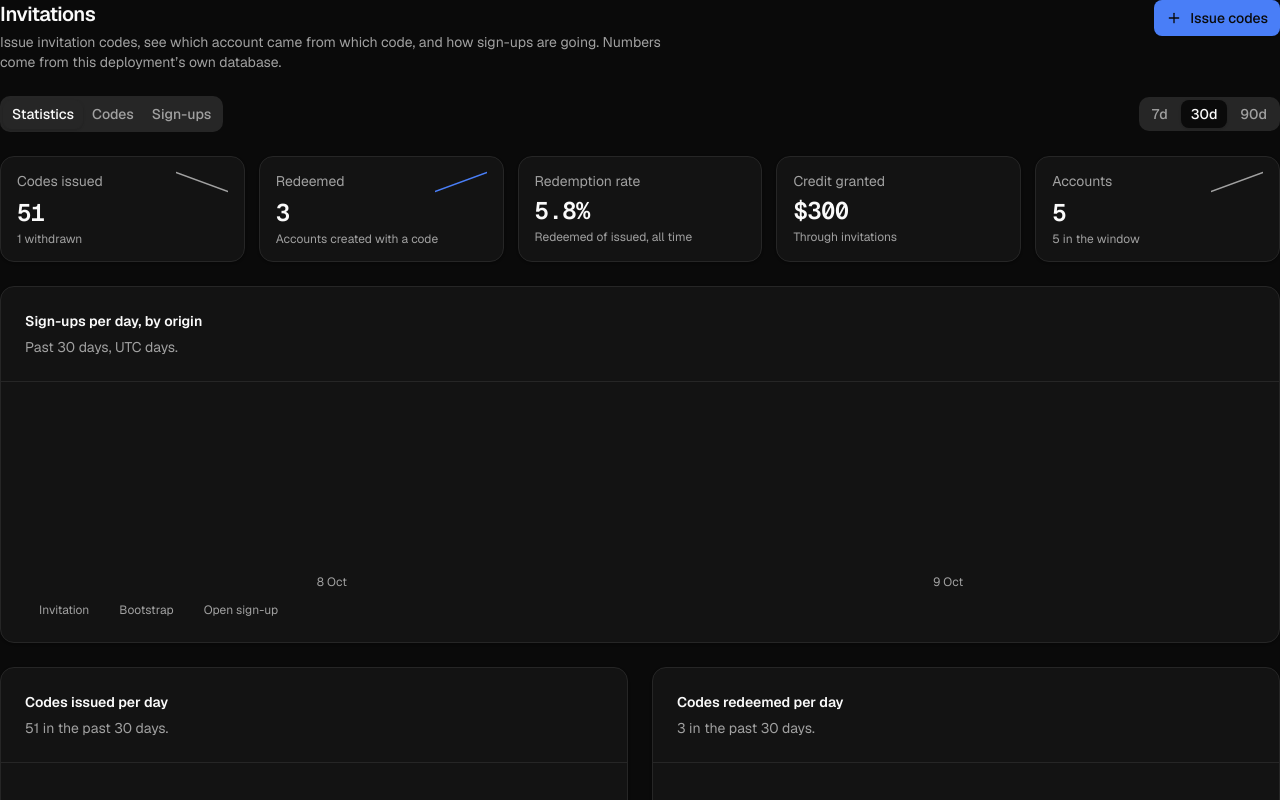
InvitationsScreen › says what is wrong with the form before asking the API
Click the button "Issue codes".
click(1217, 18)  # box [1154,0,1279,36]
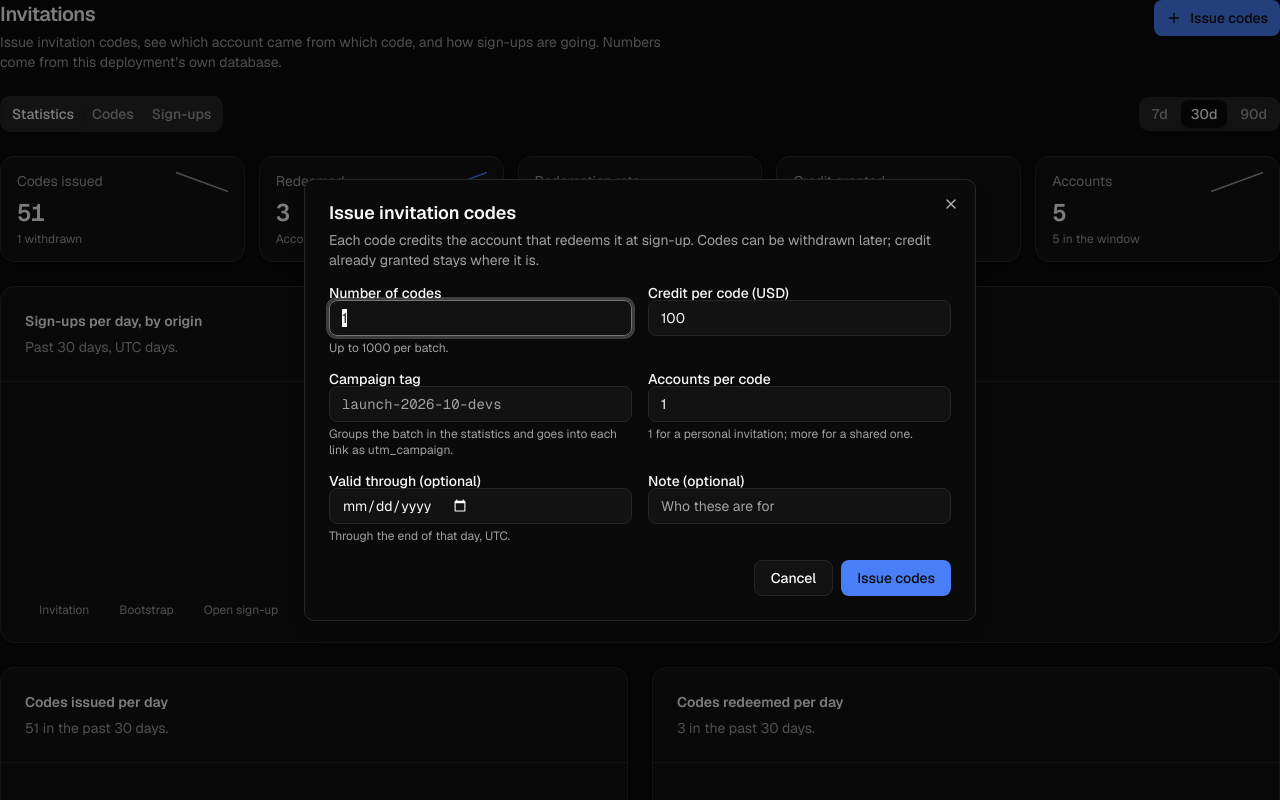
Replace the text in the field labelled "Number of codes" with "5000" at (480, 318), box [329,300,632,336]
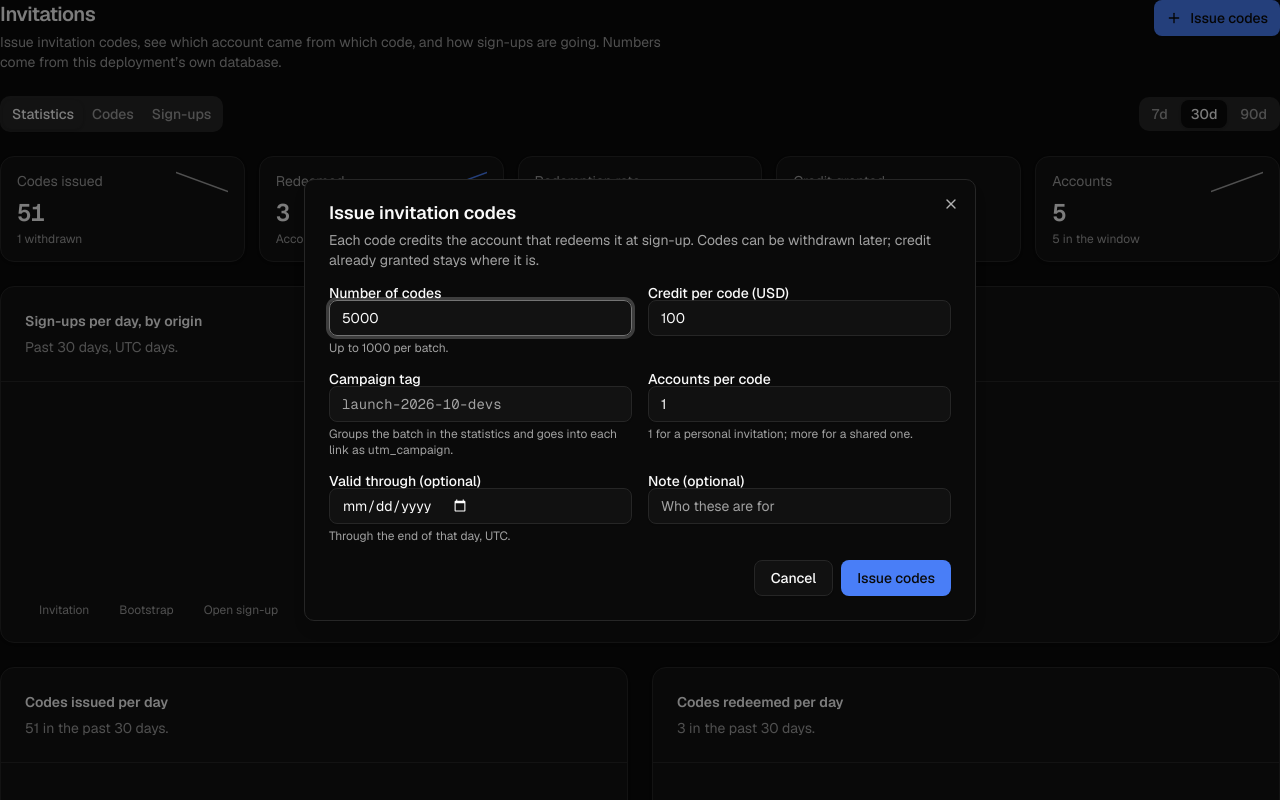
Type "Bad Tag" into the field labelled "Campaign tag".
click(480, 404); type("Bad Tag")  # box [329,386,632,422]
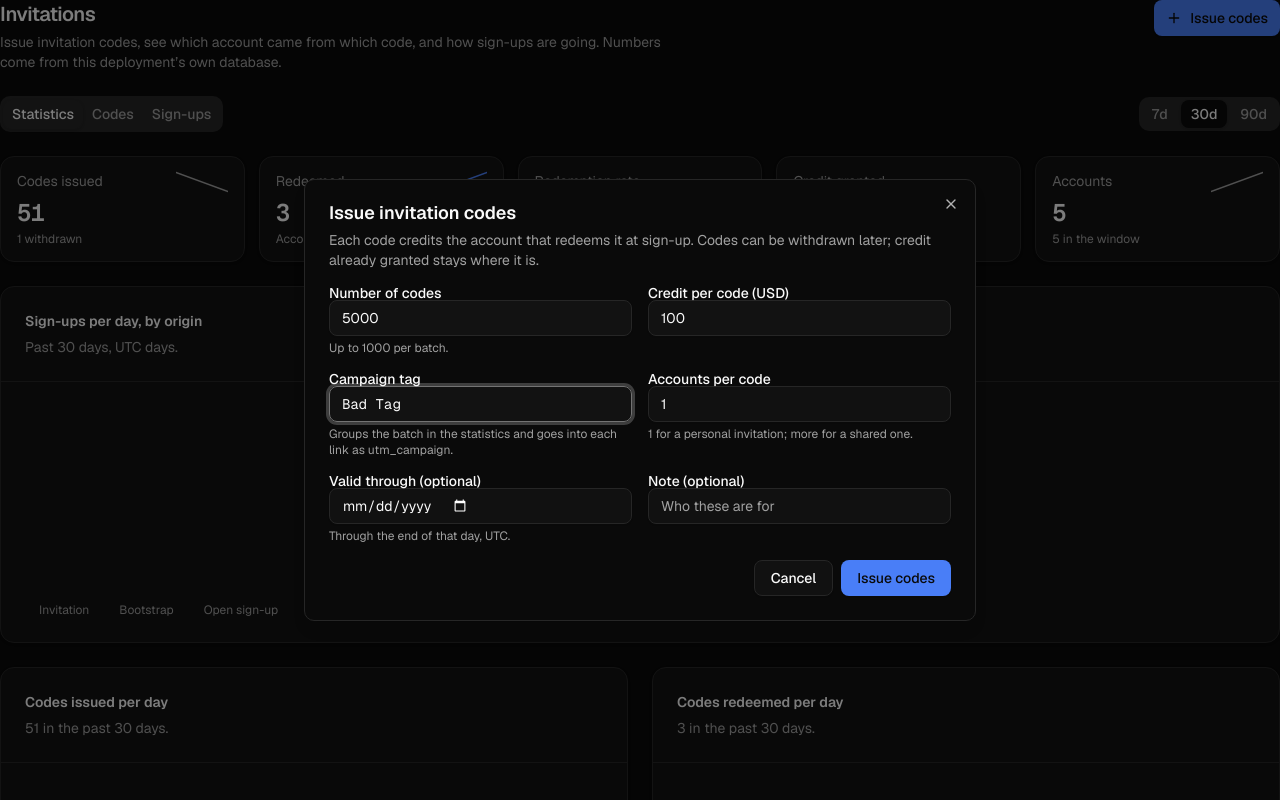
Click the button "Issue codes".
click(896, 578)  # box [841,560,951,596]
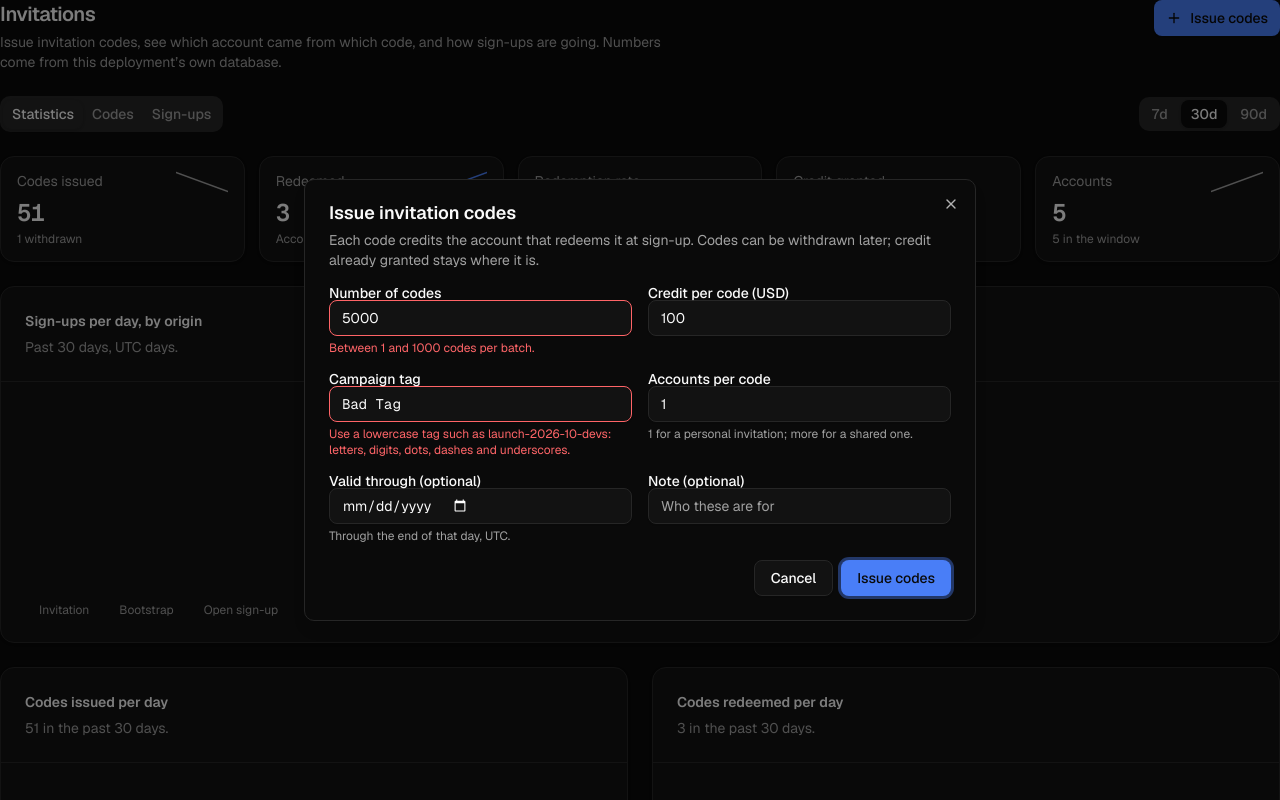
Expected: the text "Between 1 and 1000 codes per batch." is shown, [329,340,534,356]
Expected: the text "Use a lowercase tag" is shown, [329,426,611,458]
